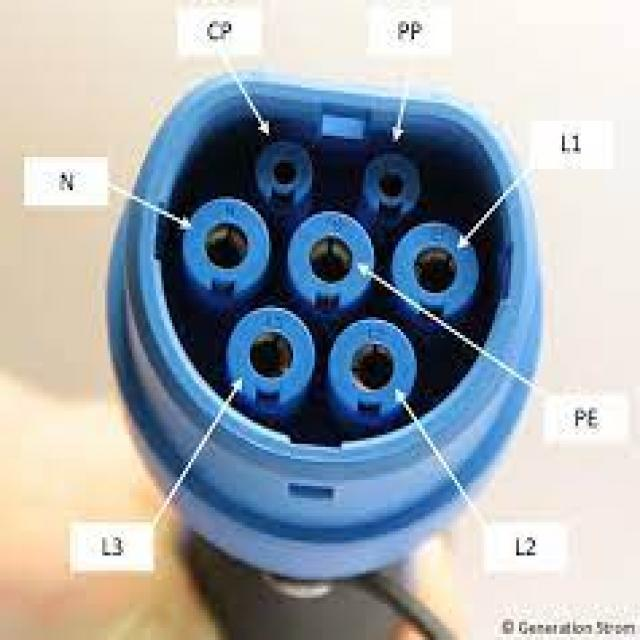Type 2: (98, 52, 536, 477)
